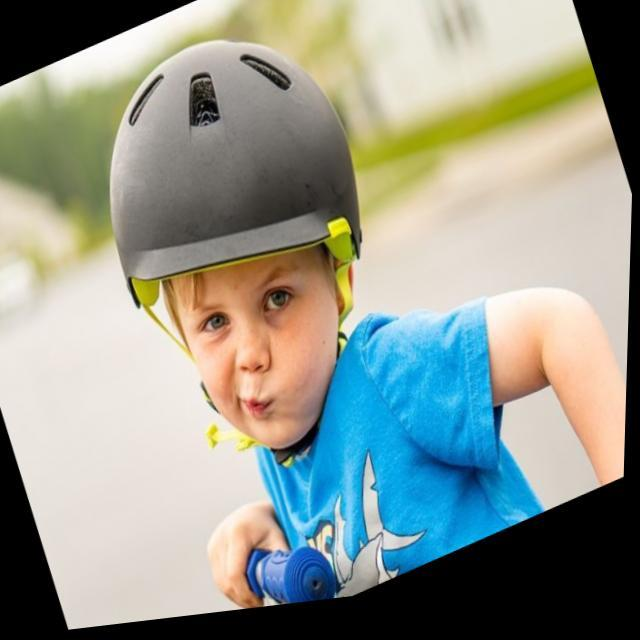Helmet: (104, 35, 367, 450)
